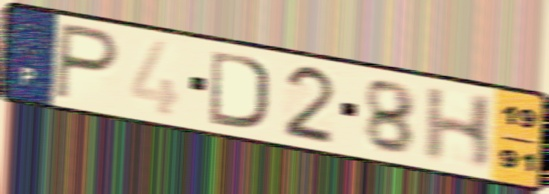2: (282, 63, 339, 148)
4: (127, 36, 184, 120)
8: (362, 78, 420, 156)
D: (208, 47, 273, 133)
H: (420, 85, 498, 172)
P: (51, 19, 123, 104)
